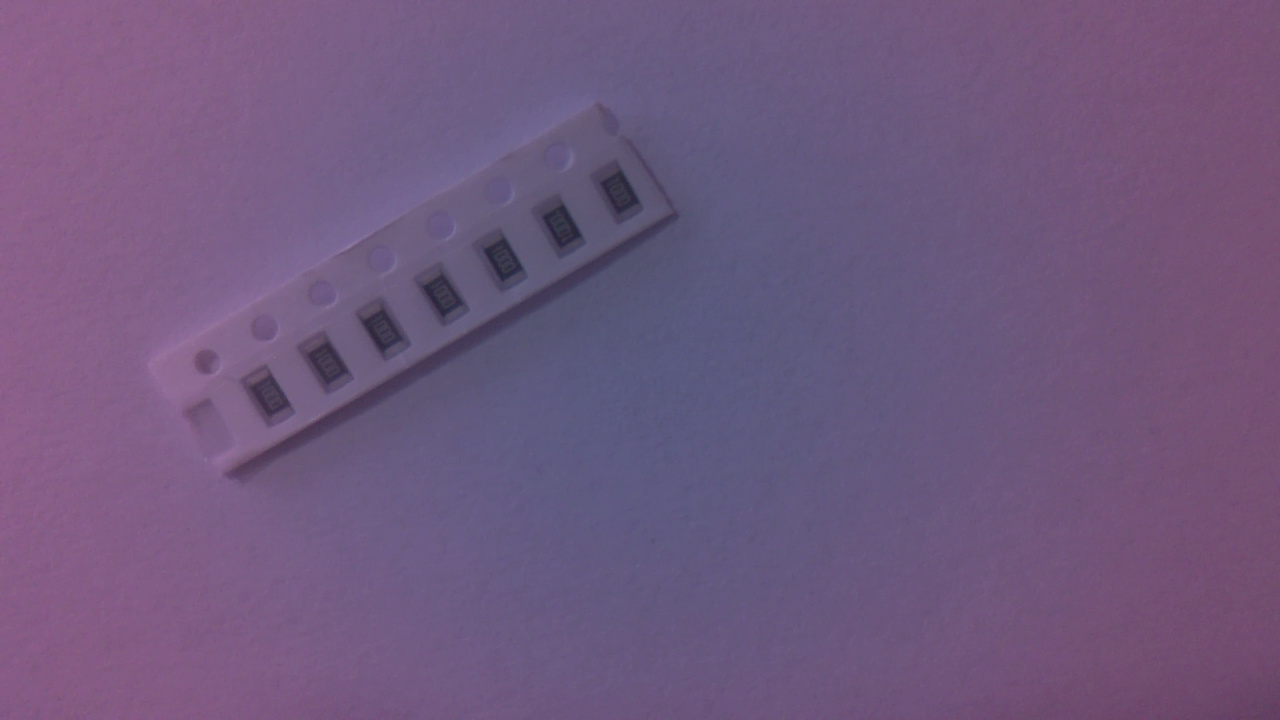Resistor: (360, 300, 416, 367), (303, 335, 360, 400), (481, 232, 537, 298), (537, 197, 592, 264), (417, 264, 474, 328), (596, 163, 653, 226), (247, 368, 303, 431)
